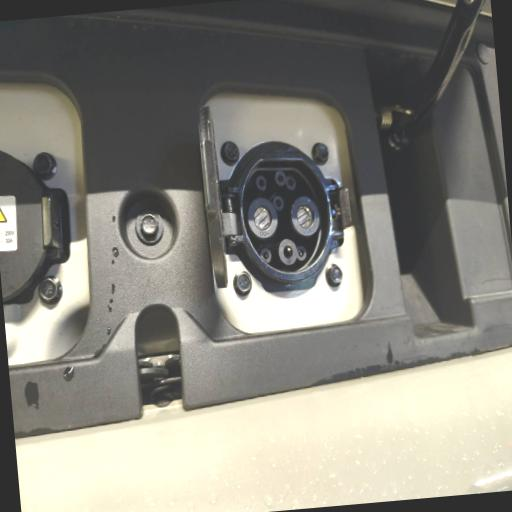DC_charging_port: (230, 144, 340, 290)
DC_hole: (245, 195, 281, 241), (288, 192, 322, 240)
PE: (276, 236, 300, 268)
